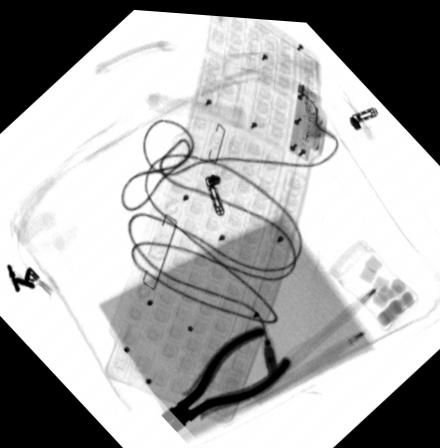Pliers: (158, 320, 292, 430)
